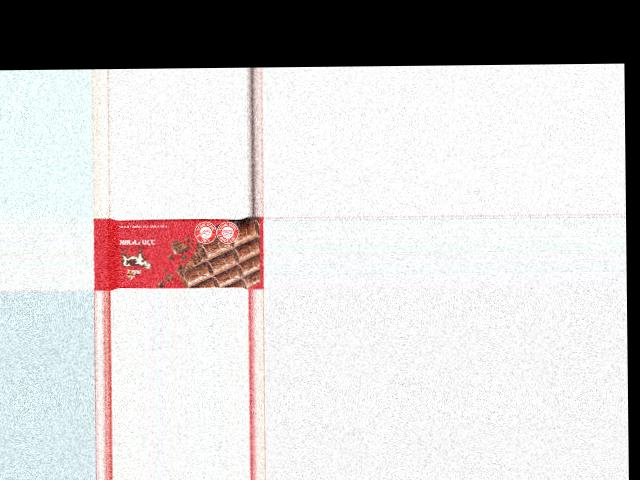chocolate: (92, 216, 262, 289)
